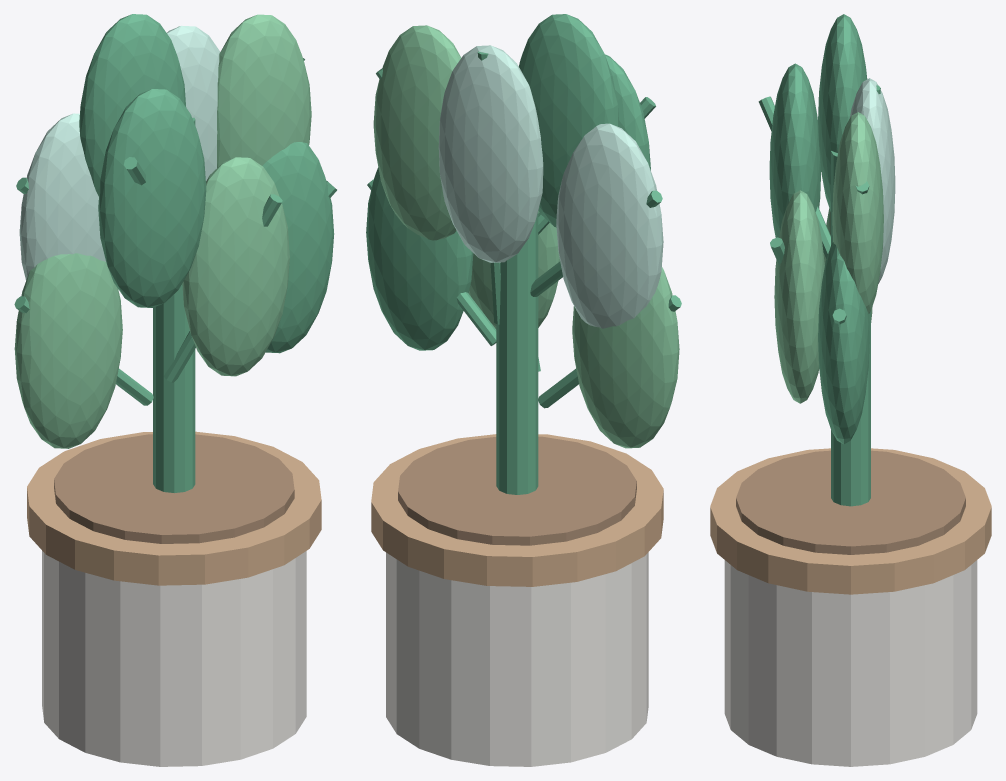
The model's file is potted_plant.glb.
The picture shows the model from 3 angles, left to right: view 1: azimuth 30°, elevation 25°; view 2: azimuth 150°, elevation 25°; view 3: azimuth 270°, elevation 25°; orthographic projection. The views are drawn at different scales.
Visible parts, largest first — view 1: pot, soil, leaf_7, leaf_6, leaf_0, pot_rim, leaf_3, leaf_2, leaf_1, leaf_4, stem, leaf_5 (+2 smaller); view 2: pot, soil, leaf_5, leaf_2, pot_rim, leaf_3, leaf_0, leaf_1, leaf_4, stem, leaf_6, leaf_7 (+4 smaller); view 3: pot, soil, pot_rim, leaf_6, leaf_1, leaf_3, leaf_7, leaf_4, stem, leaf_5, leaf_stem_7.
Boxes of the visible parts, x1,y1,x2,y2 form: pot: [42, 551, 306, 766]; soil: [54, 434, 294, 543]; leaf_7: [98, 89, 206, 307]; leaf_6: [182, 157, 289, 376]; leaf_0: [14, 253, 122, 448]; pot_rim: [27, 431, 321, 585]; leaf_3: [217, 14, 311, 167]; leaf_2: [19, 113, 106, 280]; leaf_1: [262, 142, 334, 353]; leaf_4: [79, 14, 186, 196]; stem: [153, 117, 195, 492]; leaf_5: [167, 25, 220, 180]; pot: [386, 552, 648, 766]; soil: [398, 436, 636, 545]; leaf_5: [438, 45, 543, 262]; leaf_2: [556, 123, 663, 328]; pot_rim: [371, 434, 663, 586]; leaf_3: [373, 25, 461, 240]; leaf_0: [572, 267, 679, 448]; leaf_1: [366, 167, 473, 350]; leaf_4: [519, 14, 619, 227]; stem: [496, 211, 538, 494]; leaf_6: [468, 211, 559, 329]; leaf_7: [605, 54, 650, 170]; pot: [724, 560, 977, 766]; soil: [736, 450, 965, 554]; pot_rim: [710, 448, 991, 594]; leaf_6: [774, 190, 824, 403]; leaf_1: [818, 242, 869, 444]; leaf_3: [832, 112, 883, 313]; leaf_7: [769, 63, 821, 237]; leaf_4: [818, 14, 867, 211]; stem: [831, 151, 870, 506]; leaf_5: [849, 78, 895, 283]; leaf_stem_7: [758, 96, 830, 258].
Bounding box in the file's own units: 0.6064 × 1.3 × 0.49.
